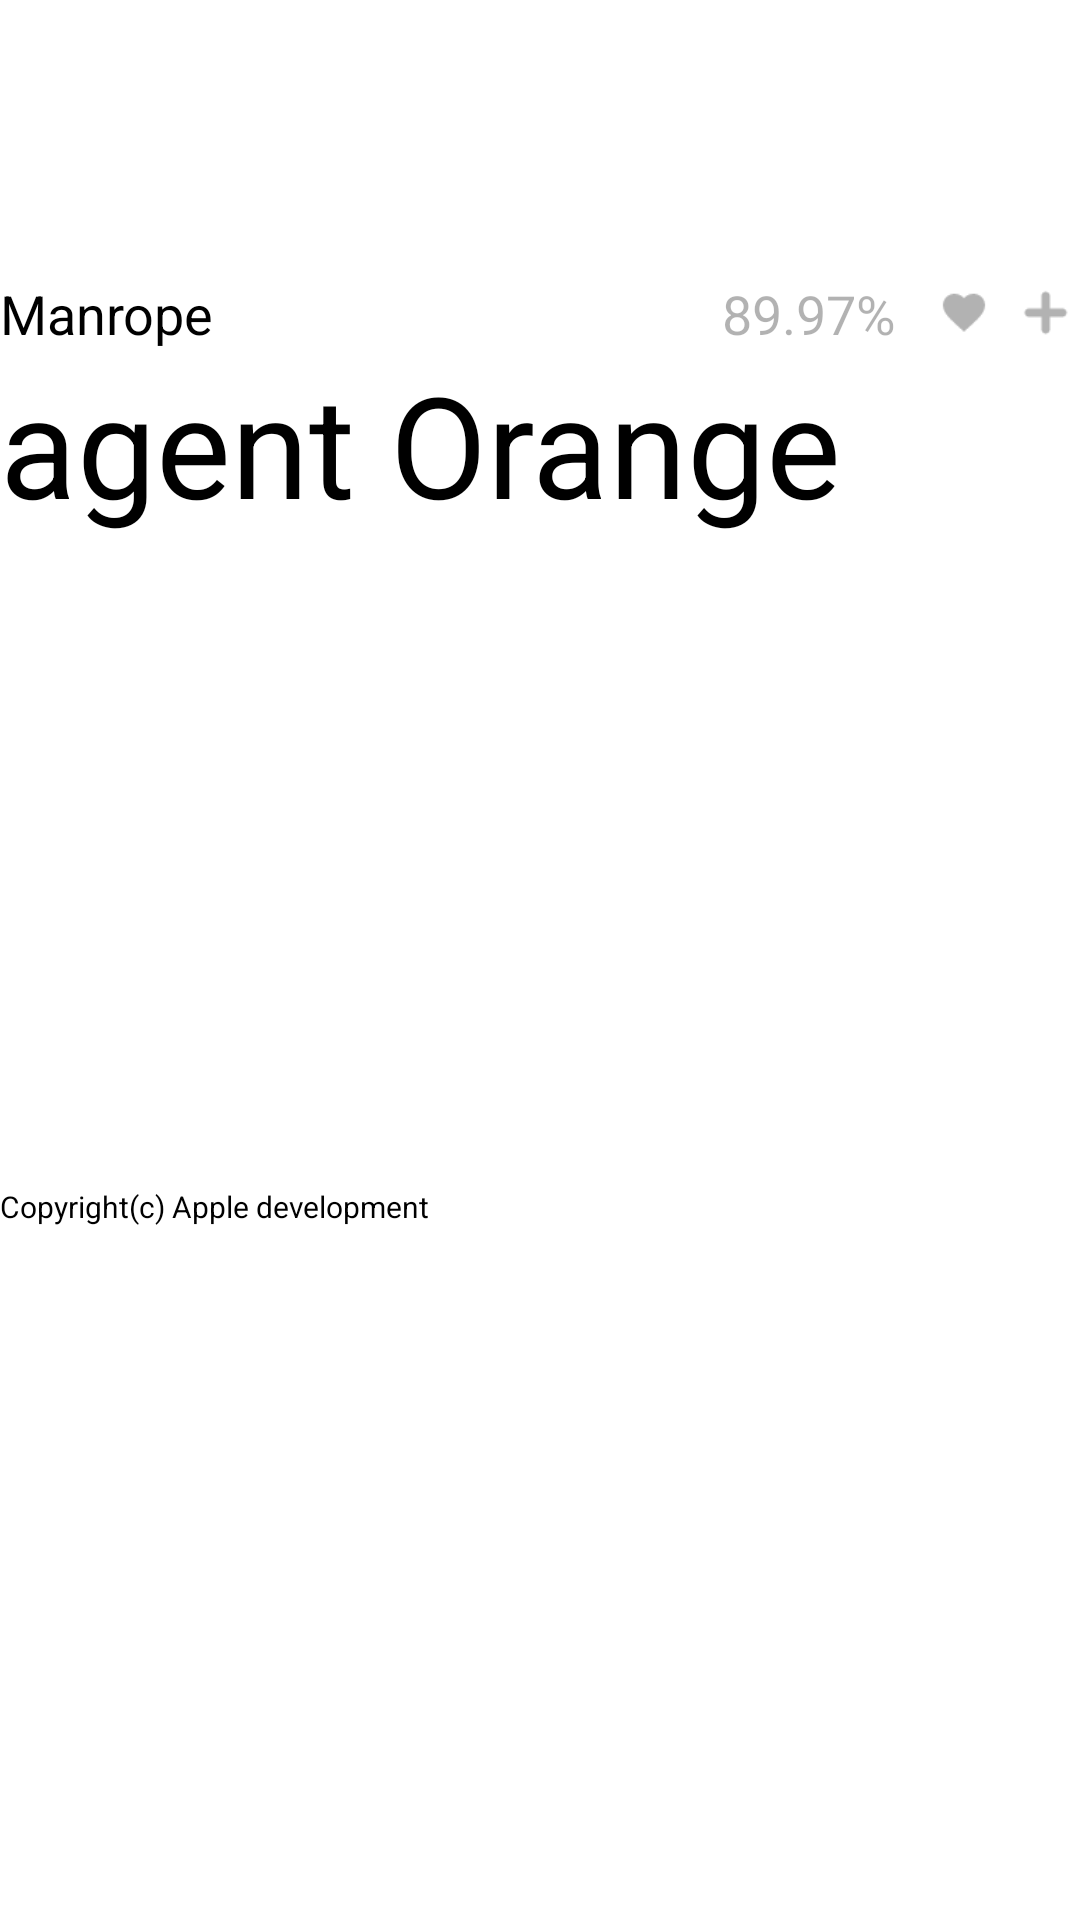

Icon click points for this 1080 x 1920 phone screenshot, format (x=x, y=y):
font info heart off: (x=964, y=313)
